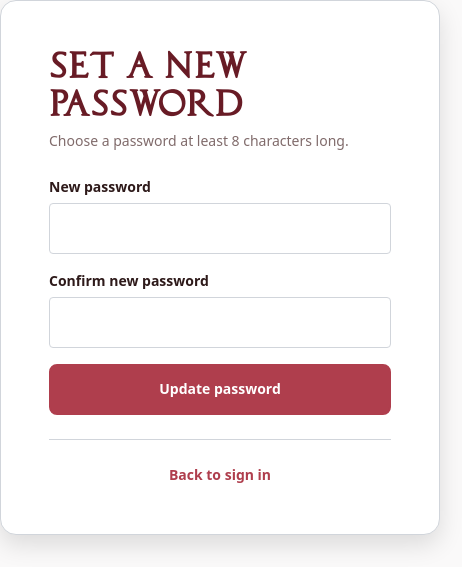
Test: ResetPasswordPage — submission › shows the success state after a valid reset
Type "NewPassword1" into the password field labelled "New password" at point(220, 228), box x1=49 y1=203 x2=391 y2=254
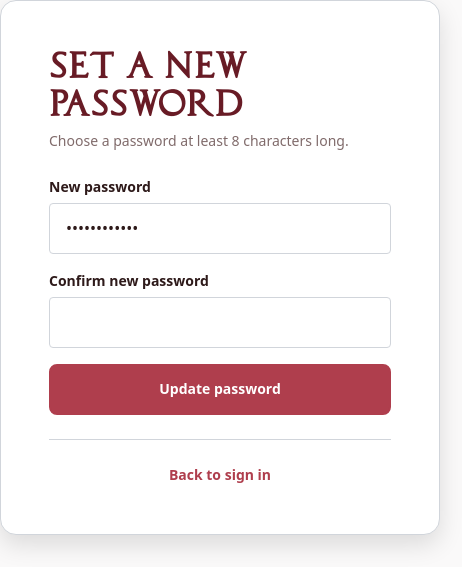
Type "NewPassword1" into the password field labelled "Confirm new password" at point(220, 322), box x1=49 y1=296 x2=391 y2=348
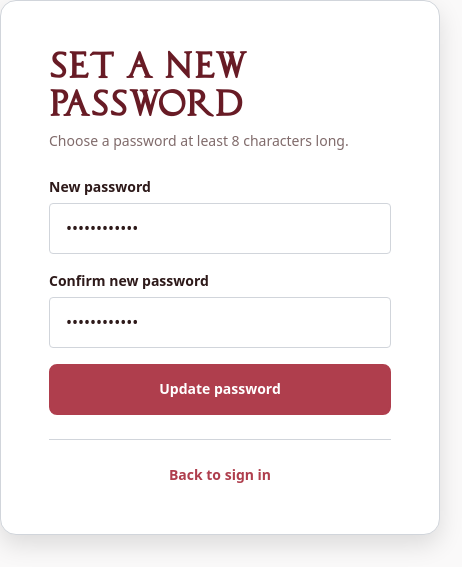
Click the button "Update password" at point(220, 389), box x1=49 y1=364 x2=391 y2=414
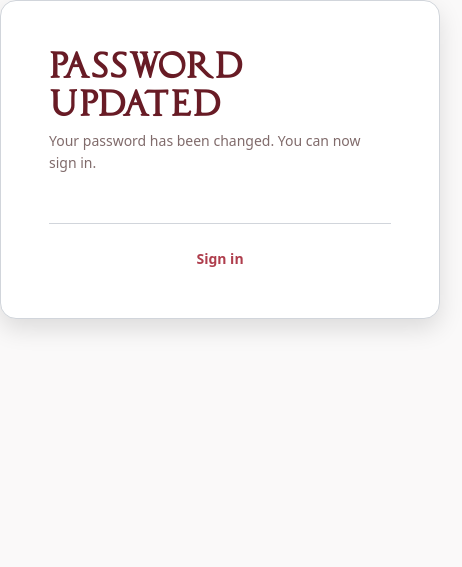
Expected: the heading "Password updated" is shown, x1=49 y1=52 x2=243 y2=122
